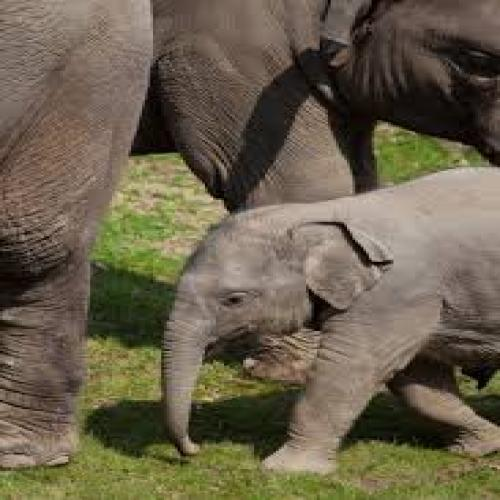asian_elephant-endangered: (158, 162, 500, 473), (150, 0, 500, 211)
